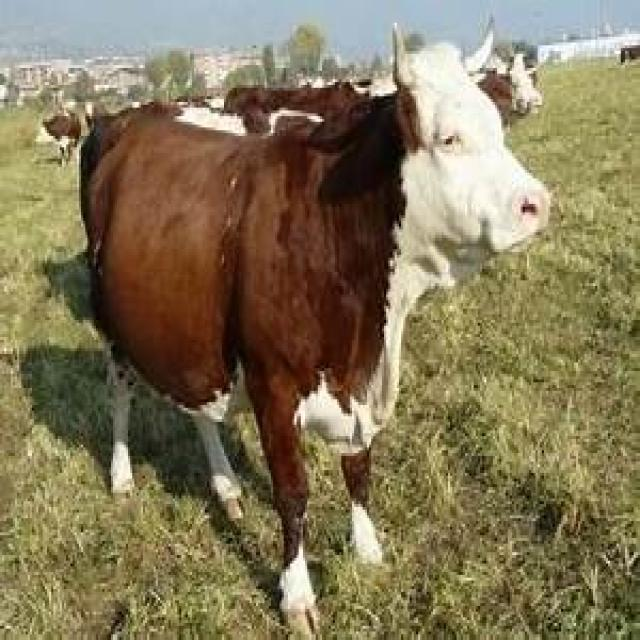cow: (79, 28, 550, 640)
